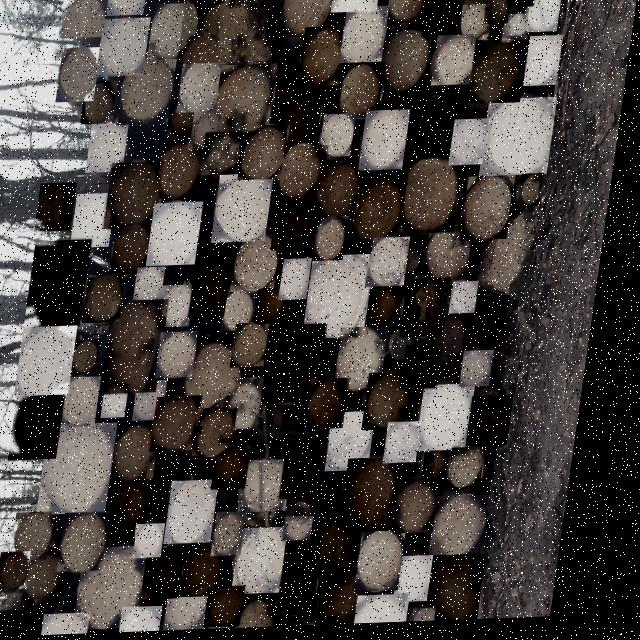wood-log: (51, 424, 130, 516), (179, 0, 281, 66), (312, 257, 386, 342), (112, 301, 178, 395), (91, 548, 165, 631), (484, 101, 561, 180), (33, 240, 99, 329), (271, 327, 338, 406), (404, 158, 470, 238), (354, 461, 417, 536), (216, 66, 280, 136), (26, 326, 87, 398), (191, 342, 253, 411), (219, 175, 280, 245), (468, 41, 531, 108), (355, 179, 414, 247), (443, 559, 503, 625), (120, 59, 179, 126), (110, 163, 169, 230), (429, 388, 487, 455), (249, 529, 304, 597), (154, 203, 210, 268), (22, 395, 77, 461), (381, 34, 437, 98), (467, 179, 521, 245), (345, 329, 399, 393), (180, 482, 234, 546), (285, 554, 338, 619), (446, 499, 502, 559), (408, 100, 460, 163), (374, 375, 427, 434), (98, 19, 151, 78), (338, 415, 389, 476), (364, 113, 415, 174), (371, 534, 422, 595), (74, 513, 125, 573), (329, 522, 380, 582), (149, 4, 201, 62), (238, 235, 289, 294), (431, 229, 481, 288), (163, 397, 214, 454), (161, 143, 211, 201), (180, 56, 230, 114), (410, 282, 459, 341), (300, 29, 348, 89), (253, 462, 307, 515), (284, 148, 334, 205), (278, 87, 327, 145), (243, 127, 294, 182), (295, 444, 343, 502), (320, 165, 369, 221), (342, 9, 390, 66), (121, 482, 167, 541), (125, 426, 173, 482), (341, 65, 387, 122), (77, 194, 122, 249), (410, 482, 455, 537), (479, 399, 526, 451), (58, 48, 102, 103), (474, 300, 519, 351), (69, 377, 113, 429), (158, 549, 202, 601), (205, 409, 250, 459), (318, 381, 362, 432), (434, 38, 478, 89), (335, 581, 382, 628), (90, 124, 133, 174), (375, 240, 418, 290), (118, 225, 160, 276), (280, 0, 333, 40), (278, 203, 320, 253), (198, 548, 239, 599), (92, 275, 134, 324), (26, 512, 68, 561), (39, 553, 81, 601), (41, 183, 82, 232), (198, 271, 239, 320), (526, 39, 565, 90), (237, 381, 276, 432), (166, 333, 208, 380), (59, 0, 108, 39), (412, 348, 453, 393), (158, 455, 198, 501), (411, 559, 450, 606), (454, 122, 493, 169), (241, 325, 281, 370), (225, 448, 264, 493), (222, 588, 263, 630), (461, 451, 499, 496), (423, 0, 464, 41), (207, 133, 245, 177), (323, 116, 360, 160), (373, 598, 428, 627), (84, 81, 120, 125), (182, 598, 227, 633), (227, 514, 262, 559), (397, 425, 434, 467), (167, 286, 203, 329), (321, 219, 355, 264), (230, 291, 266, 333), (0, 610, 54, 638), (13, 552, 47, 595), (145, 381, 179, 422), (288, 261, 320, 303), (527, 0, 563, 37), (194, 113, 228, 151), (376, 291, 409, 330), (471, 354, 505, 391), (460, 8, 494, 44), (254, 602, 296, 631), (387, 0, 432, 27), (142, 268, 174, 303), (149, 525, 181, 560), (138, 608, 181, 634), (264, 290, 295, 326), (60, 614, 108, 636), (170, 103, 200, 138), (458, 285, 488, 318), (82, 340, 111, 374), (113, 386, 141, 419), (524, 177, 549, 211), (435, 457, 461, 489), (503, 18, 531, 47), (484, 0, 512, 28), (299, 519, 329, 544), (331, 0, 380, 15), (107, 0, 146, 17), (457, 0, 489, 12), (508, 0, 537, 11), (430, 612, 454, 625)
